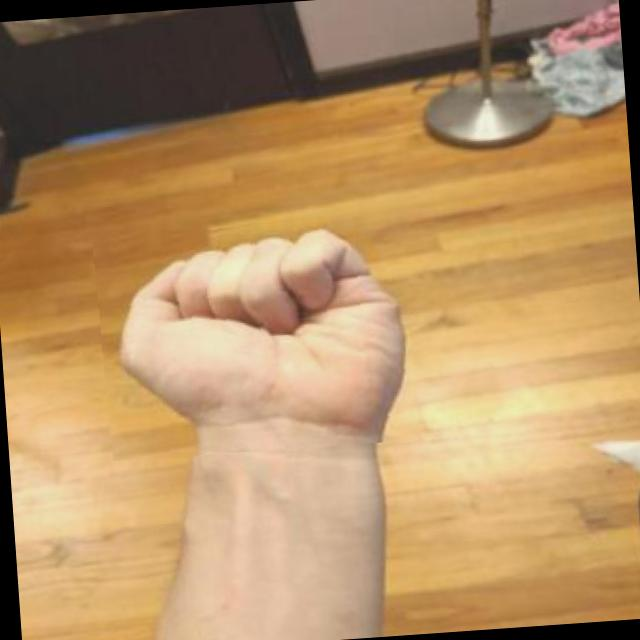A: (91, 210, 418, 461)
